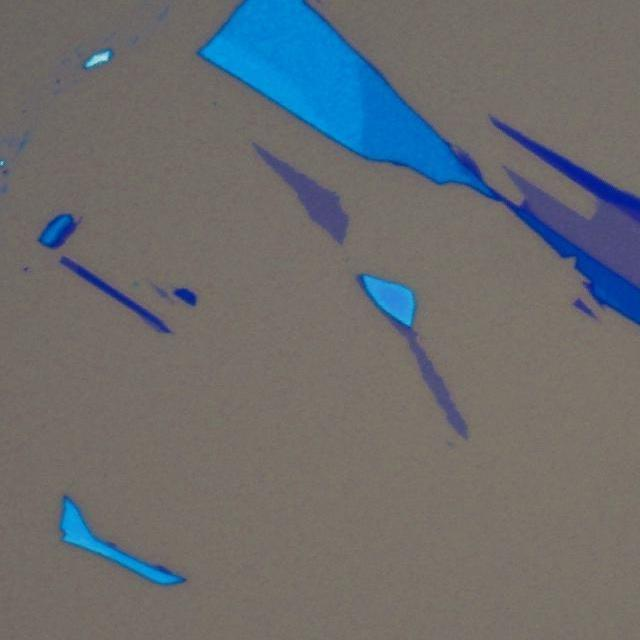monolayer-eWW4: (498, 156, 640, 365), (246, 137, 350, 243), (396, 322, 470, 442)
